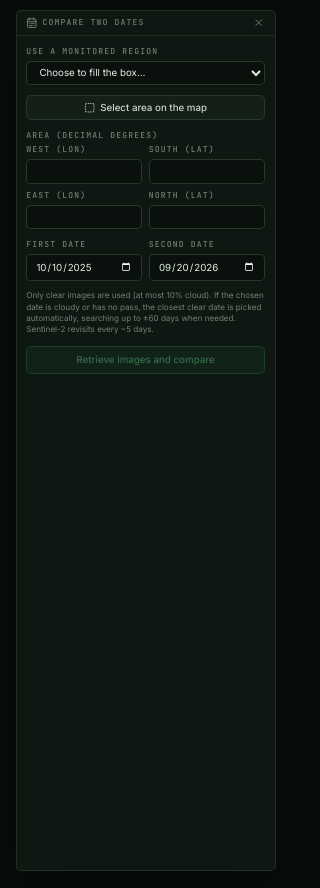
Test case: QuickComparePanel › searches the typed box with a window around each date and reports a missing scene honestly
The width and height of the screenshot is (320, 888).
Type "-62.3" into the field labelled "West (lon)" at [84, 171], box [26, 159, 142, 184]
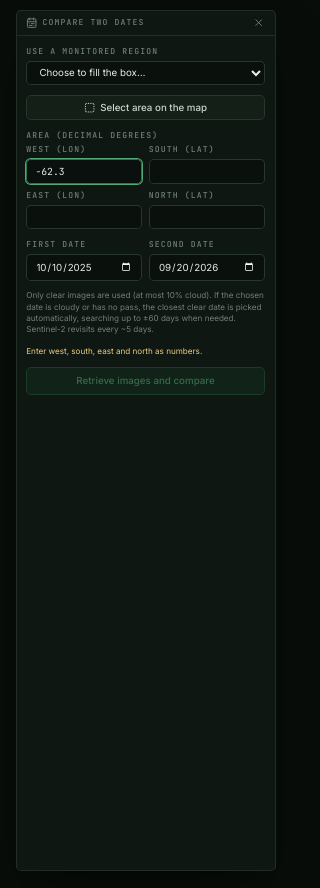
Type "-10.9" into the field labelled "South (lat)" at [207, 171], box [149, 159, 265, 184]
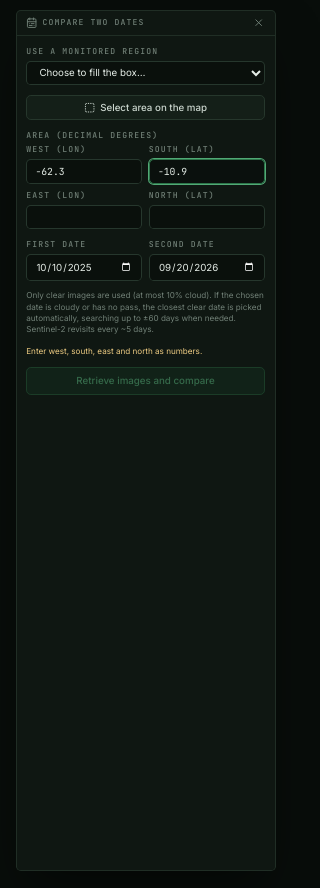
Type "-62.27" into the field labelled "East (lon)" at [84, 217], box [26, 205, 142, 229]
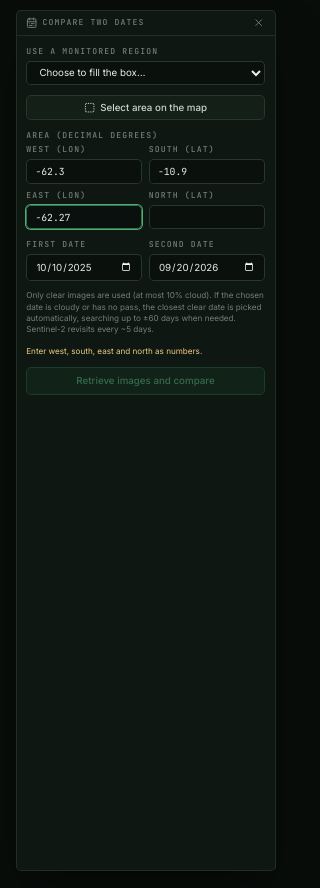
Type "-10.87" into the field labelled "North (lat)" at [207, 217], box [149, 205, 265, 229]
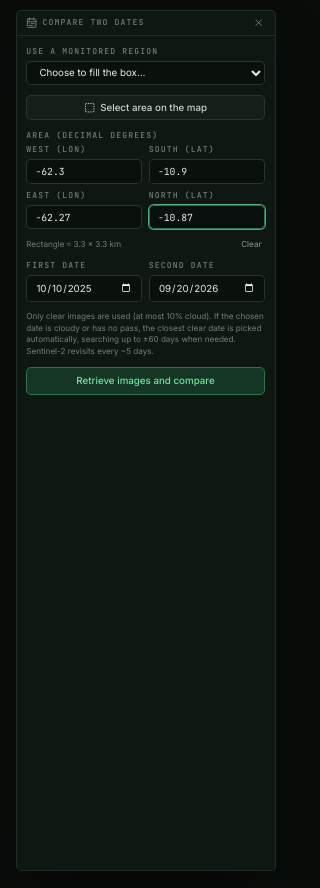
Click the button "Retrieve images and compare" at [146, 381], box [26, 367, 265, 395]
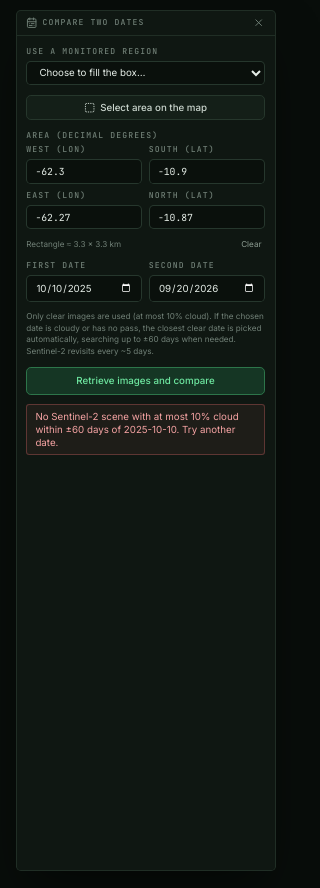
Now the text "No Sentinel-2 scene with at most 10% cloud within" is shown, box [35, 411, 239, 448]
